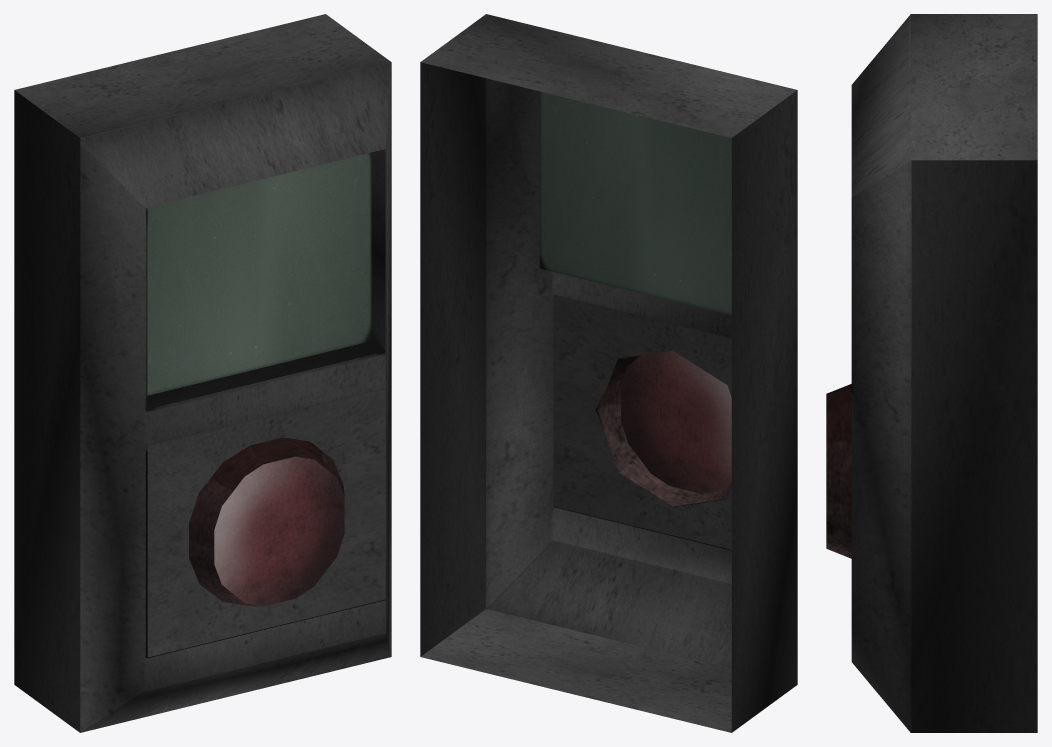
The model's file is Button.fbx.
The picture shows the model from 3 angles, left to right: view 1: azimuth 30°, elevation 25°; view 2: azimuth 150°, elevation 25°; view 3: azimuth 270°, elevation 25°; orthographic projection. The views are drawn at different scales.
Visible parts, largest first — view 1: Scene_Root (×2); view 2: Scene_Root (×2); view 3: Scene_Root.
Boxes of the visible parts, bbox=[...] form: Scene_Root (×2): bbox=[14, 14, 391, 732]; Scene_Root (×2): bbox=[420, 14, 797, 732]; Scene_Root: bbox=[826, 14, 1037, 732].
Bounding box in the file's own units: 2.76 × 5.04 × 1.69.
